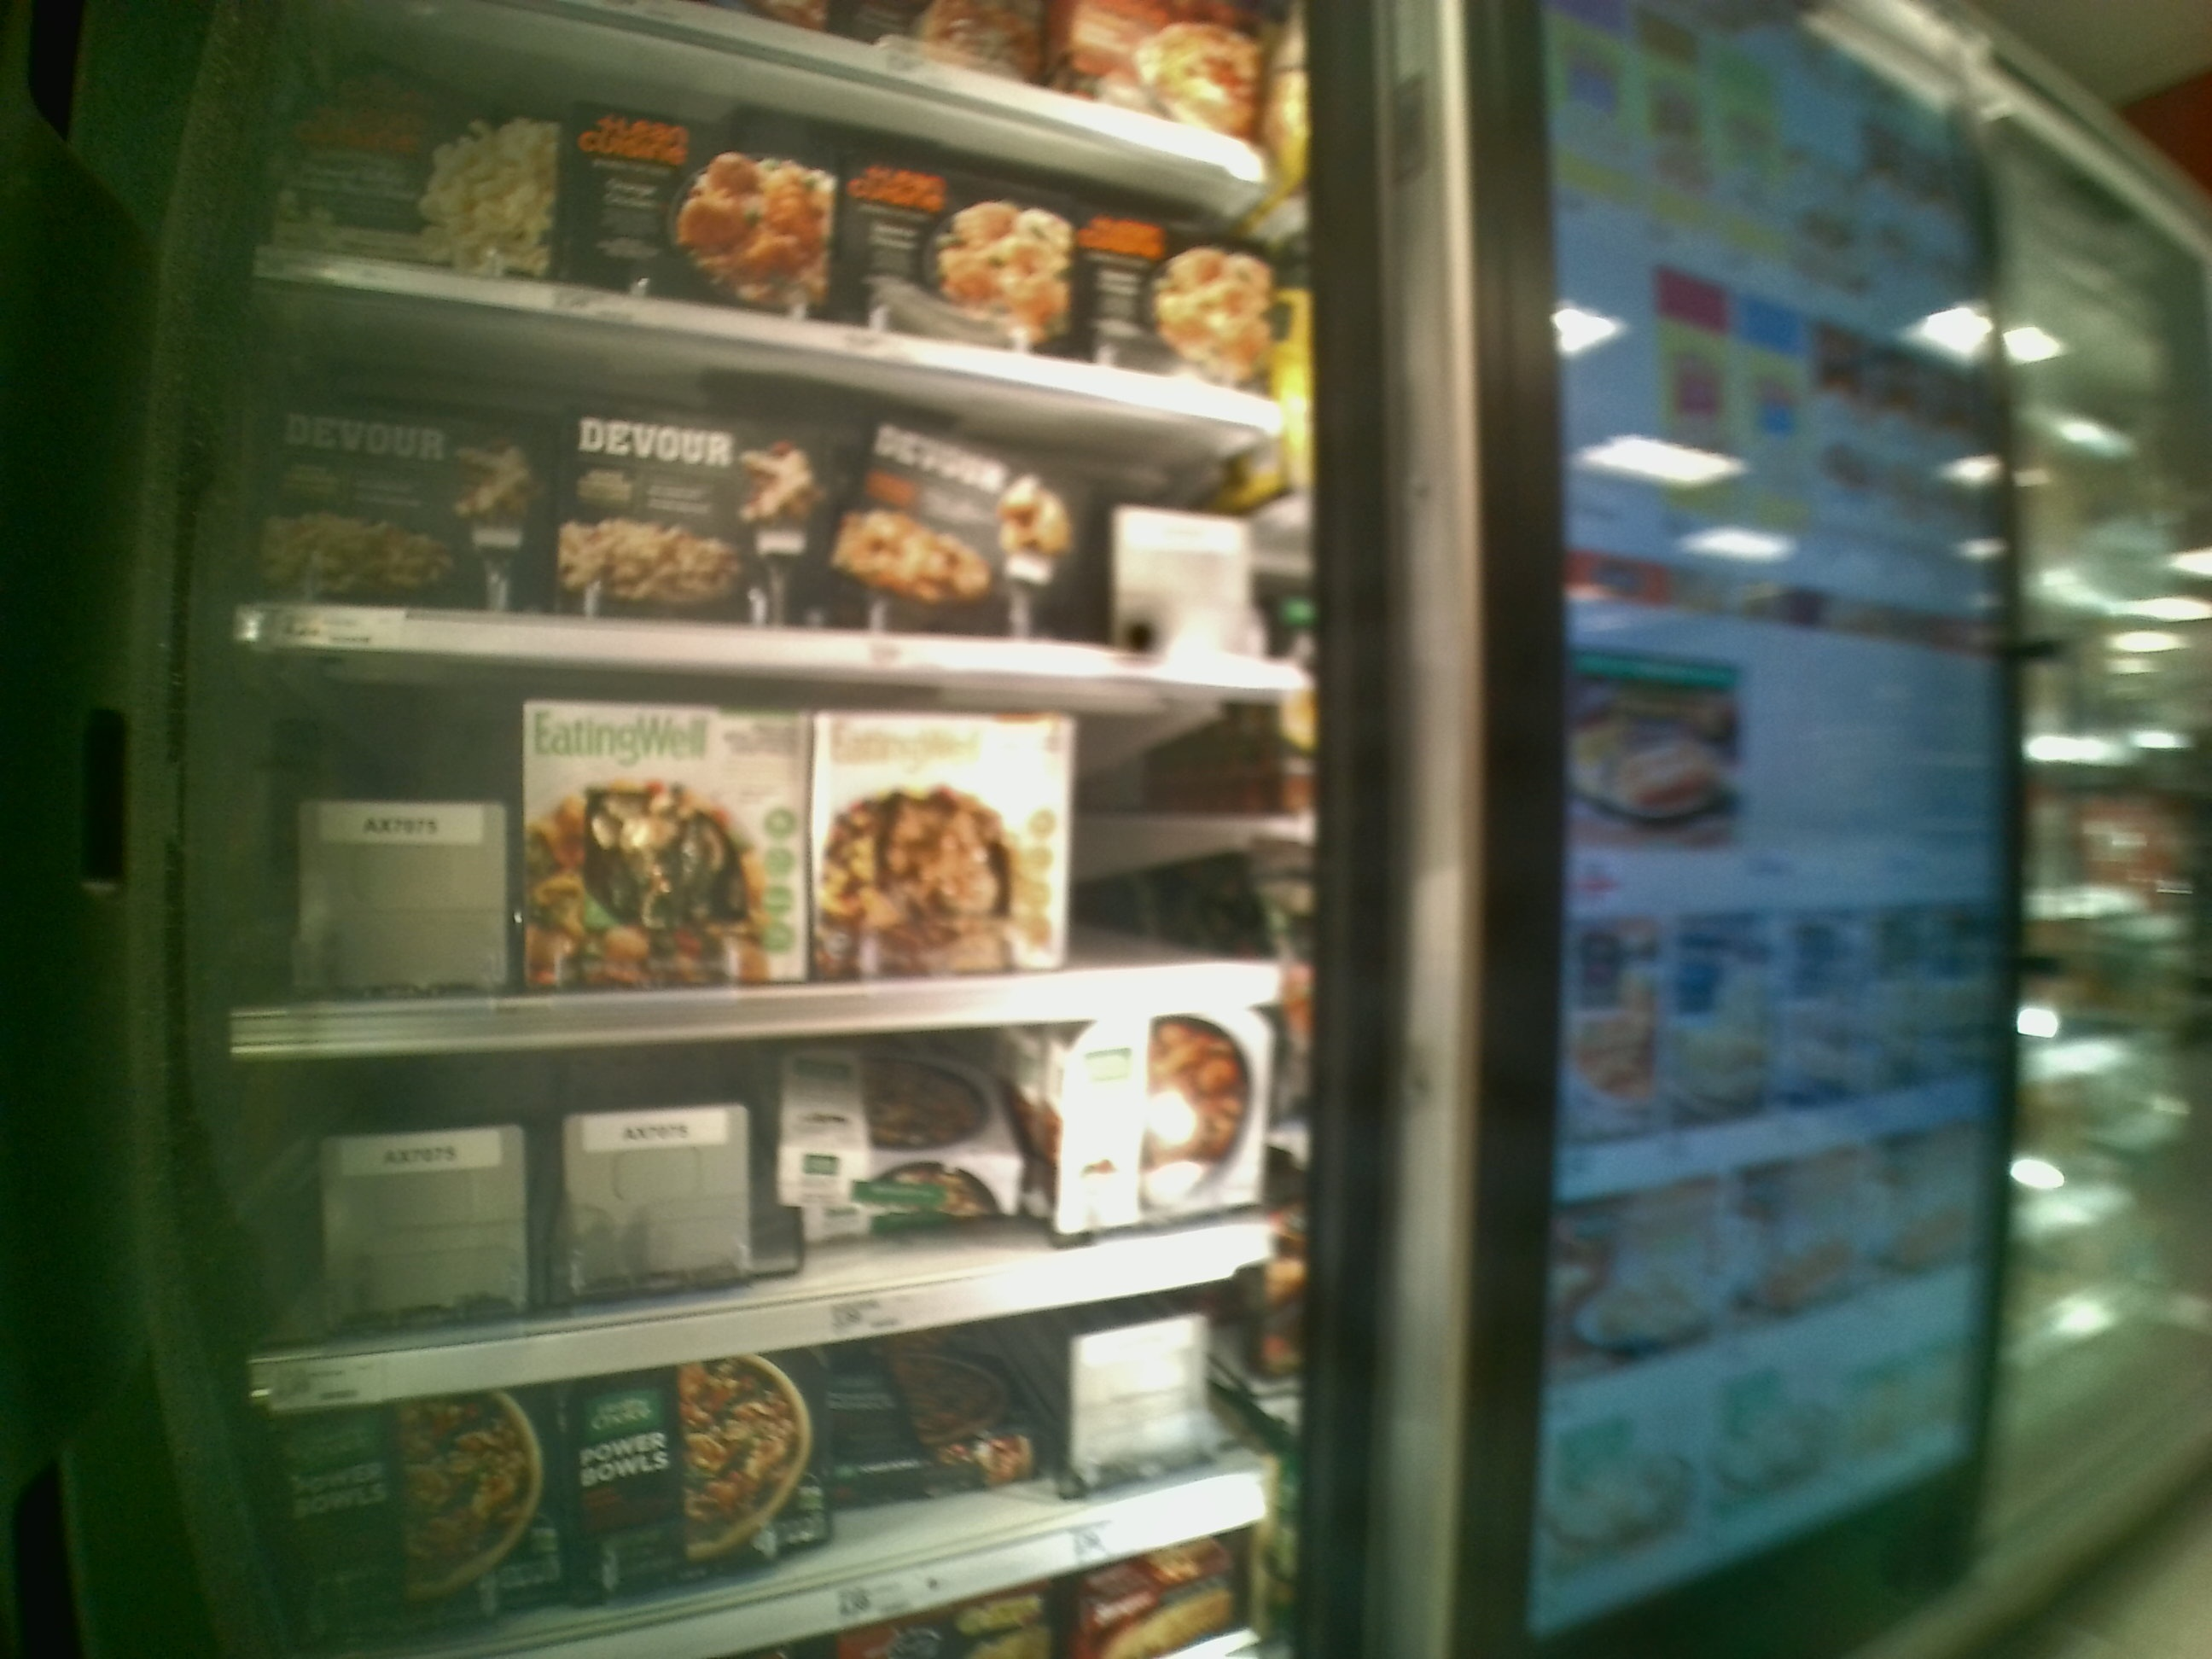shelf: (223, 636, 1303, 1053), (223, 270, 1303, 673)
